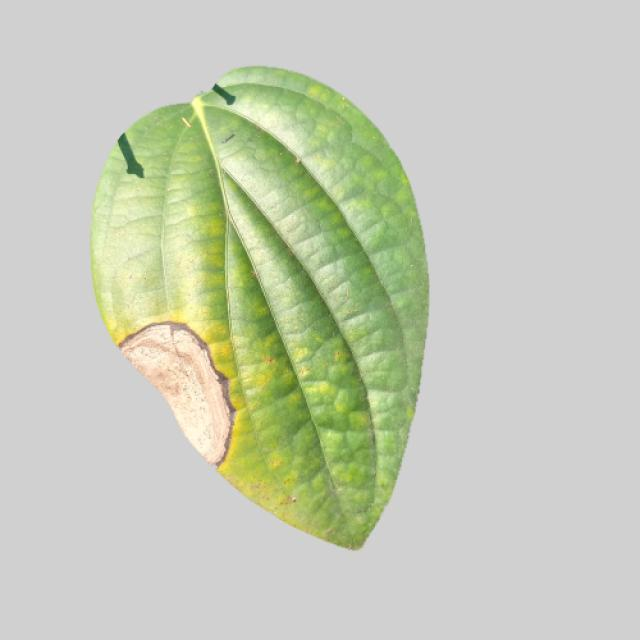leaf-blight: (78, 76, 433, 546)
